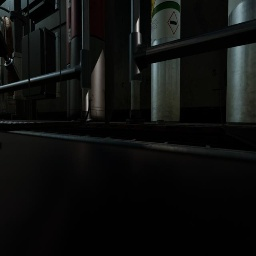0: (226, 0, 256, 125), (151, 0, 181, 124)
NitrogenTank ,: (70, 0, 105, 122), (66, 0, 72, 121)
